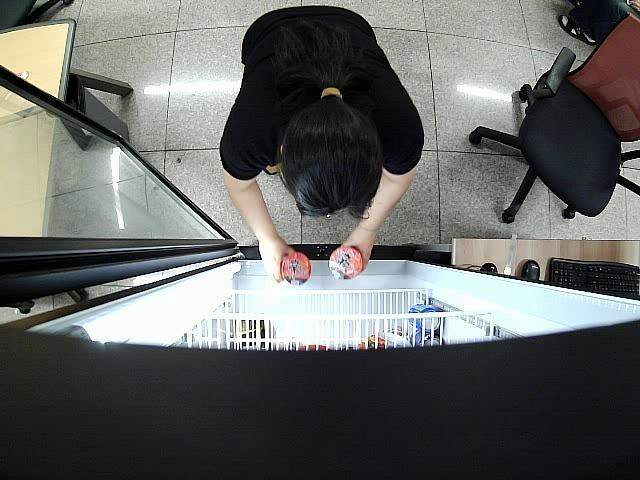02_shinRamen_S: (328, 246, 364, 281), (280, 253, 310, 286)
